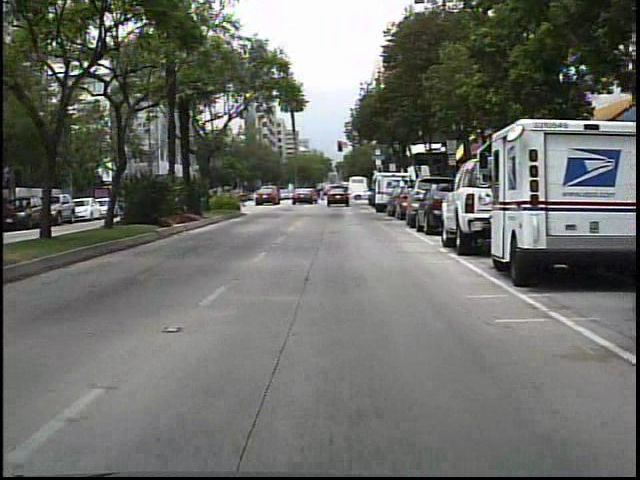person: (309, 181, 325, 206), (320, 184, 321, 204)
